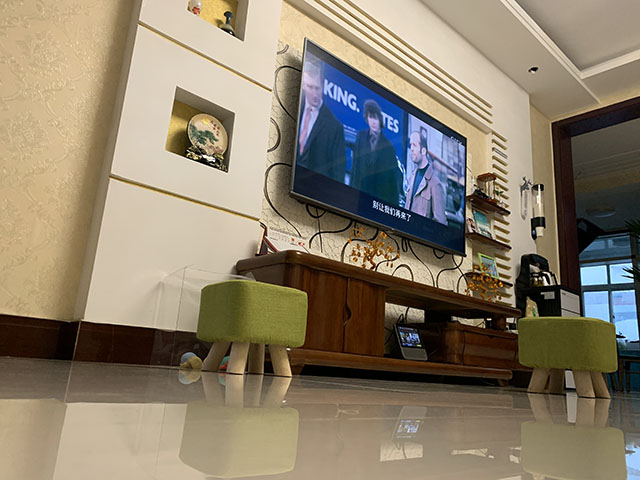cabinet: (236, 249, 533, 388), (513, 253, 580, 391)
stool: (194, 278, 309, 379), (516, 315, 619, 400)
